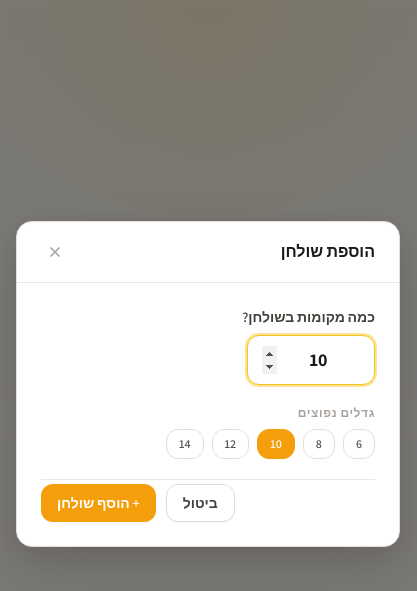
Test: AddTableModal › shows error for invalid capacity
Replace the text in the number field with test id "add-table-capacity-input" with "0": (311, 360) [247,335,375,385]
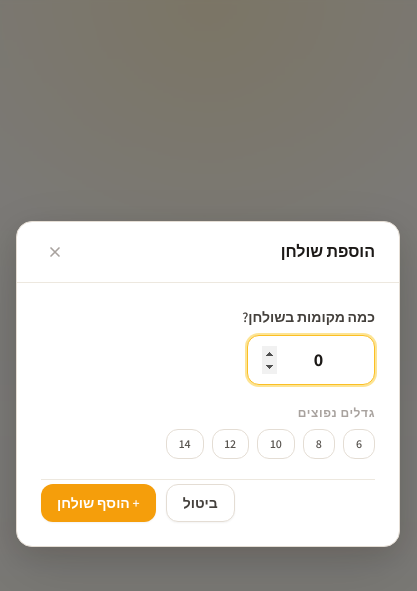
Click the button with test id "add-table-confirm": (98, 503) [41,484,156,522]
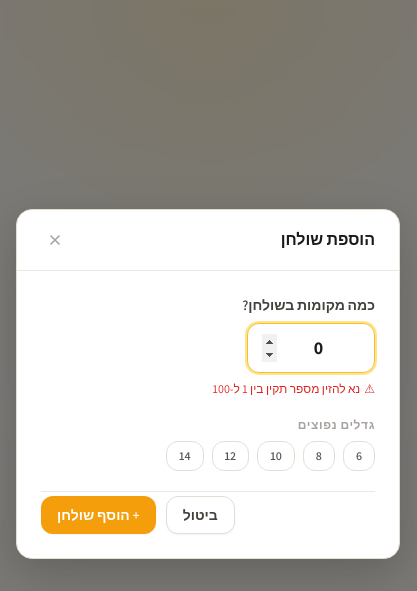
expect the text "⚠ נא להזין מספר תקין בין 1 ל-100" is shown: met, box [213,381,375,396]
